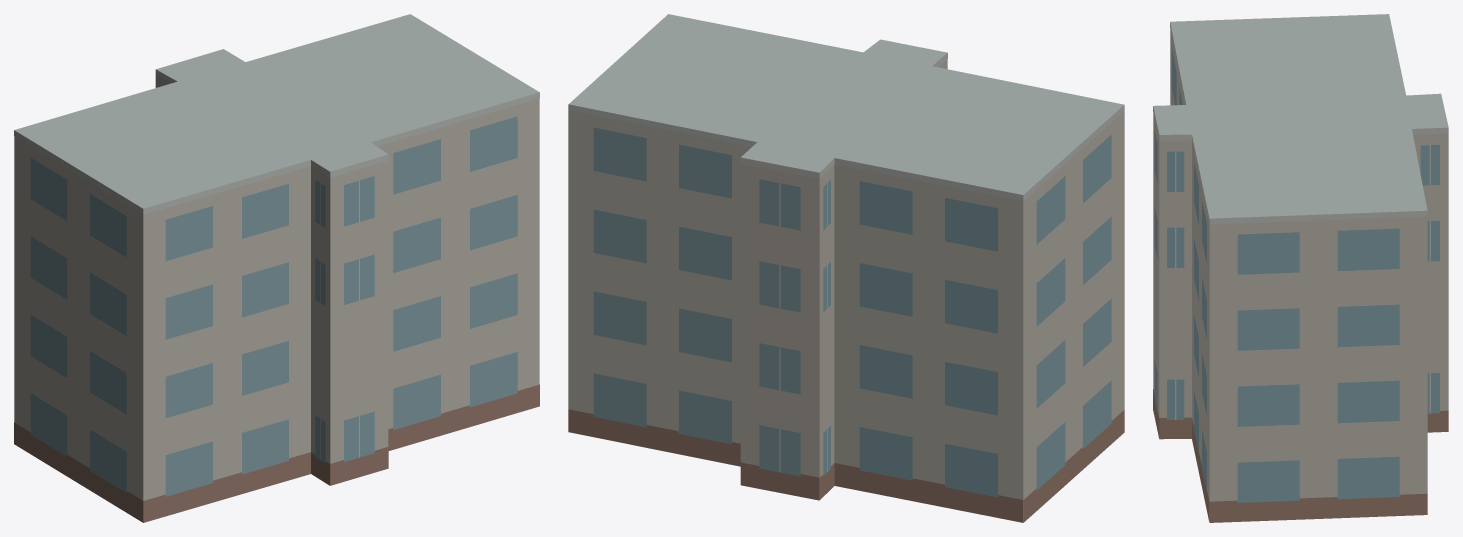
Rendered from survey-upis-32757093.glb.
The picture shows the model from 3 angles, left to right: view 1: azimuth 30°, elevation 25°; view 2: azimuth 150°, elevation 25°; view 3: azimuth 270°, elevation 25°; orthographic projection. The views are drawn at different scales.
Parts seen in each view (by area): view 1: survey-upis-32757093.tmp; view 2: survey-upis-32757093.tmp; view 3: survey-upis-32757093.tmp.
Boxes of the visible parts, left/top/right/bottom form: survey-upis-32757093.tmp: left=14, top=14, right=539, bottom=522; survey-upis-32757093.tmp: left=568, top=14, right=1124, bottom=522; survey-upis-32757093.tmp: left=1153, top=14, right=1448, bottom=522.
Size of the model in its own units: 18.48 by 12.8 by 11.28.
